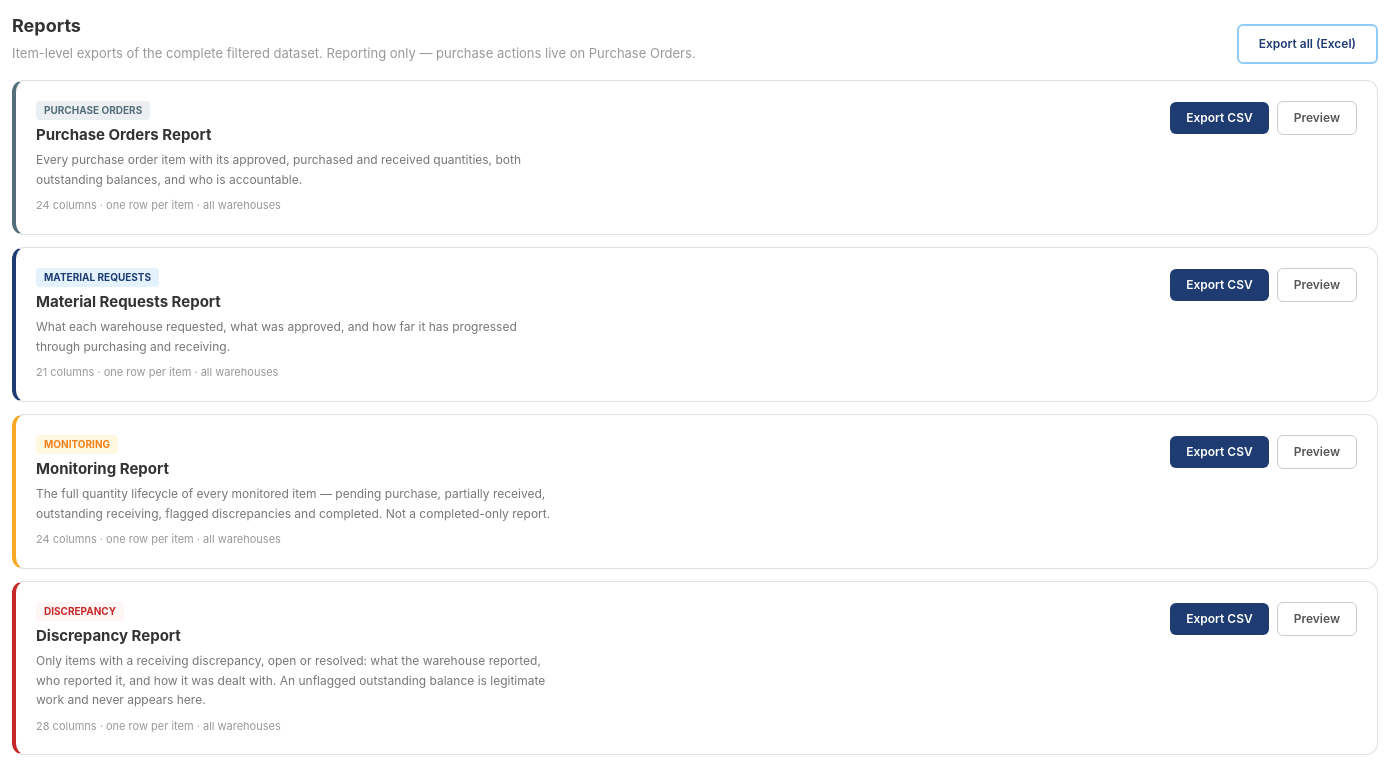
Test: PHASE 6 P6-01 — a truncated report must not read as a complete one › a short complete report shows no completeness note at all
Click the button "Preview" in the row of "Purchase Orders Report".
click(1317, 118)  # box [1277,100,1357,134]
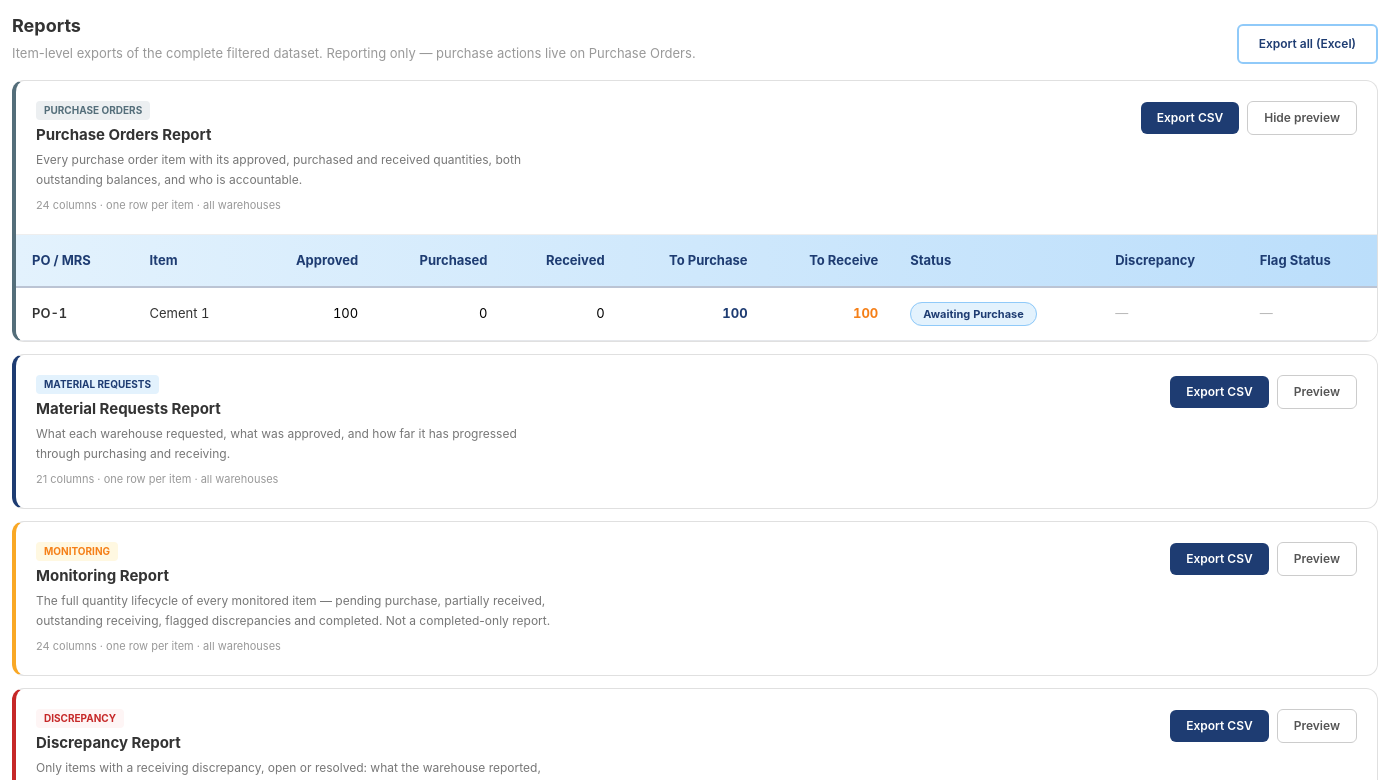
Result: the table is shown at [16,234,1377,340]
